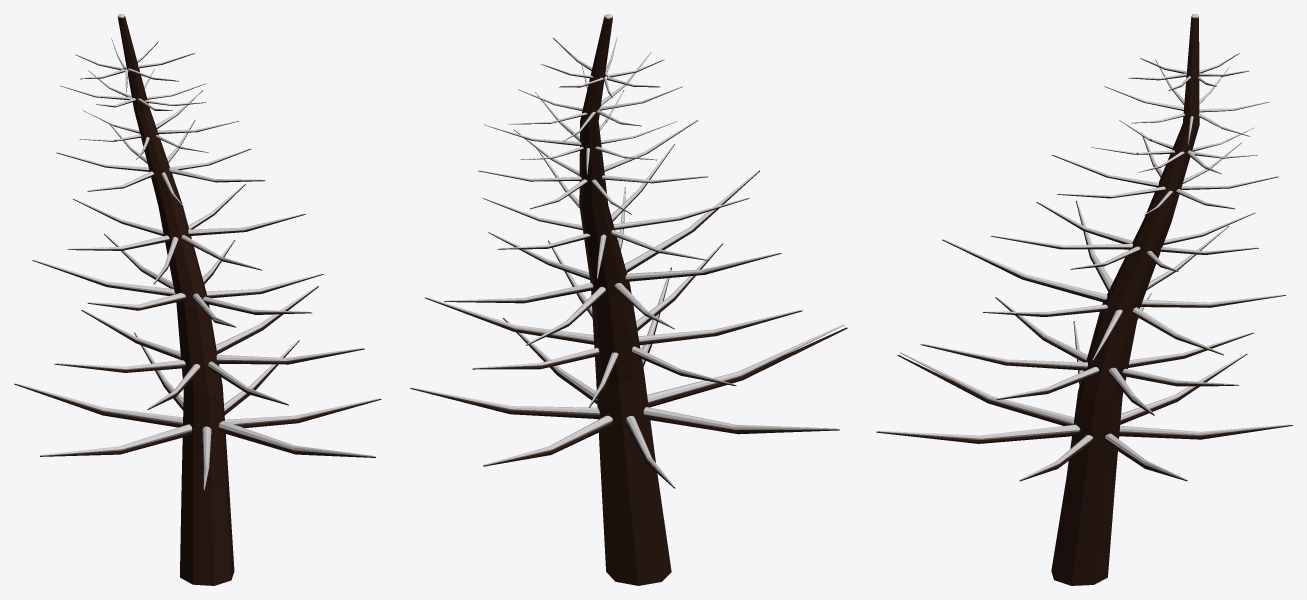
File: Dead tree003.fbx
The picture shows the model from 3 angles, left to right: view 1: azimuth 30°, elevation 25°; view 2: azimuth 150°, elevation 25°; view 3: azimuth 270°, elevation 25°; orthographic projection. The views are drawn at different scales.
Visible parts, largest first — view 1: Cylinder.001; view 2: Cylinder.001; view 3: Cylinder.001.
Part boxes in pixels (x1=…): Cylinder.001: x1=14, y1=14, x2=381, y2=585; Cylinder.001: x1=410, y1=14, x2=847, y2=585; Cylinder.001: x1=876, y1=14, x2=1292, y2=585.
Bounding box in the file's own units: 1301 × 2061 × 1428.
